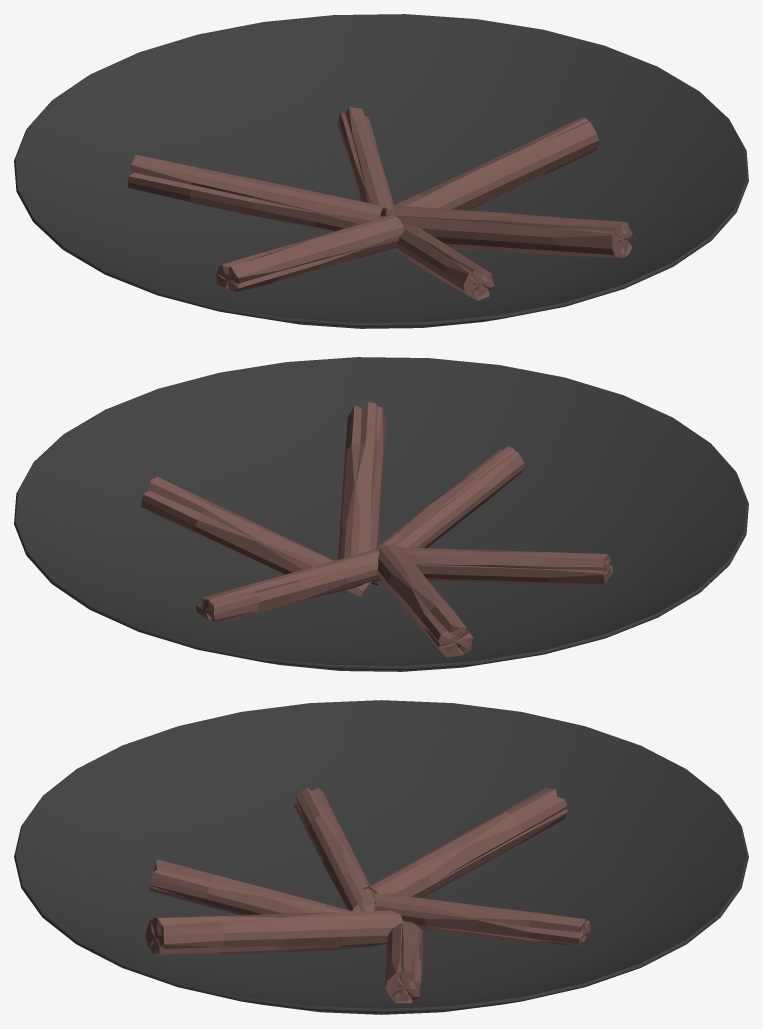
File: MSH_Plato-fogata.fbx
The picture shows the model from 3 angles, top to bottom: view 1: azimuth 30°, elevation 25°; view 2: azimuth 150°, elevation 25°; view 3: azimuth 270°, elevation 25°; orthographic projection.
Visible parts, largest first — view 1: MSH_Plato-fogata; view 2: MSH_Plato-fogata; view 3: MSH_Plato-fogata.
Boxes of the visible parts, bbox=[...] form: MSH_Plato-fogata: bbox=[14, 14, 748, 328]; MSH_Plato-fogata: bbox=[14, 357, 748, 671]; MSH_Plato-fogata: bbox=[14, 700, 748, 1014].
Size of the model in its own units: 166 by 23.16 by 166.
